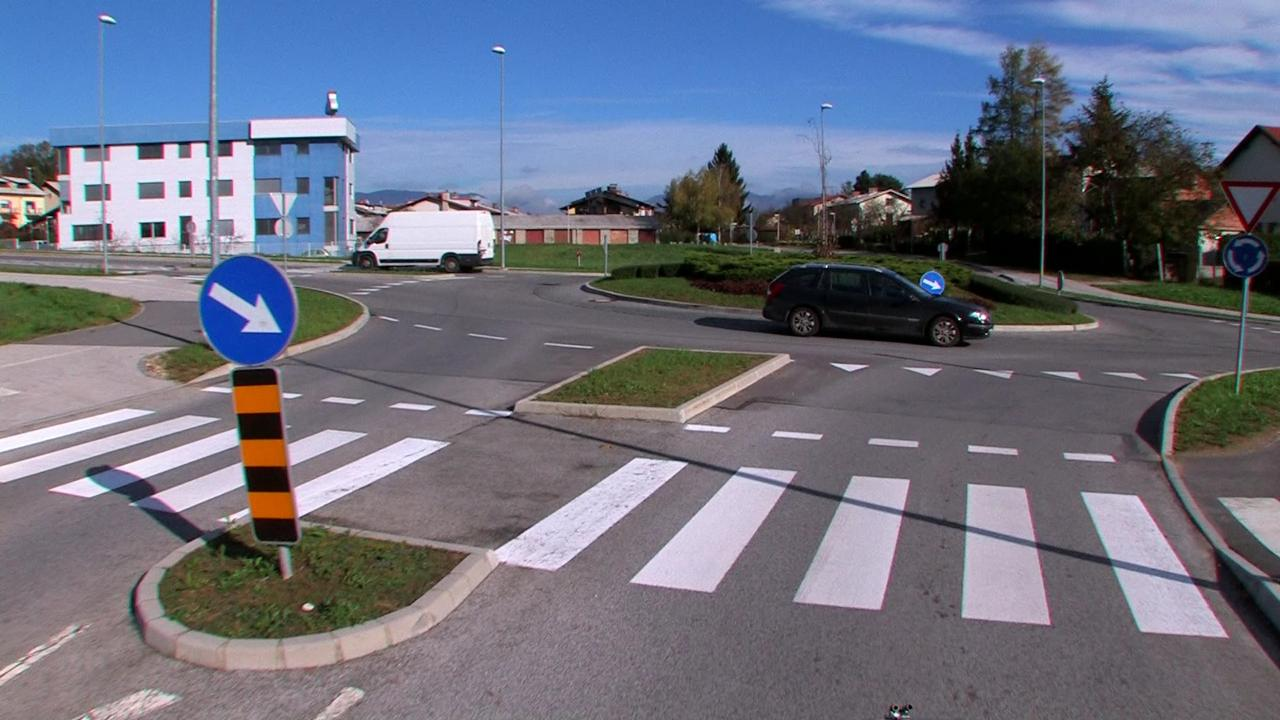Round: (197, 252, 299, 366), (1224, 235, 1268, 279), (919, 271, 945, 293)
Triangle: (1218, 176, 1280, 229)
